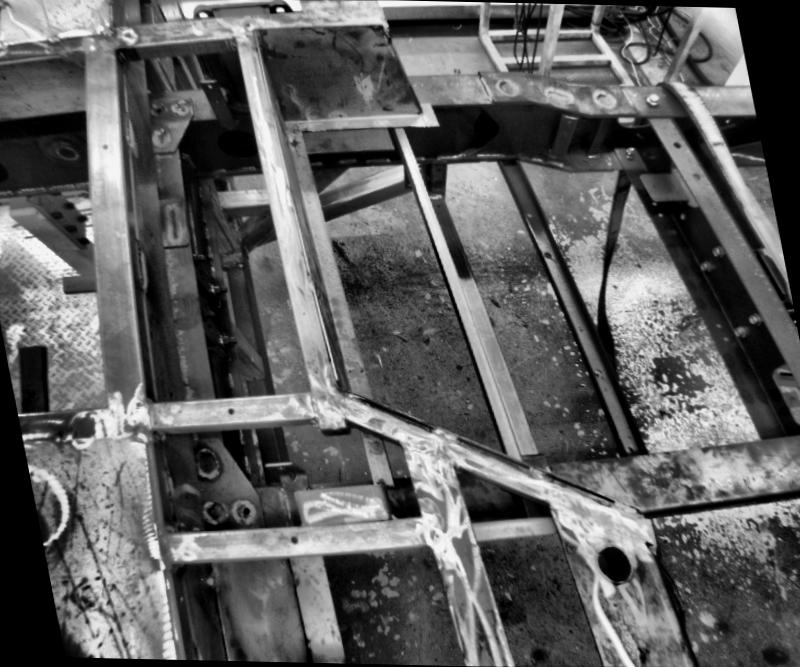bolt: (208, 282, 229, 296), (216, 333, 238, 345), (644, 94, 660, 110), (742, 312, 758, 328), (191, 250, 208, 265), (622, 146, 638, 159), (696, 262, 712, 274), (710, 248, 723, 260), (730, 328, 743, 338)
bracket: (9, 341, 55, 412), (632, 165, 689, 219), (764, 362, 799, 430), (199, 78, 241, 134), (56, 270, 102, 298)
hole: (591, 544, 635, 582), (54, 144, 82, 160), (0, 151, 10, 189), (27, 390, 41, 400), (285, 534, 298, 544), (594, 368, 603, 379), (241, 507, 250, 516), (226, 407, 235, 415), (101, 142, 110, 150), (542, 251, 551, 259), (626, 445, 634, 454), (720, 336, 728, 344), (672, 141, 681, 148), (526, 211, 534, 218), (712, 324, 720, 329), (208, 86, 214, 90), (436, 205, 438, 209)
